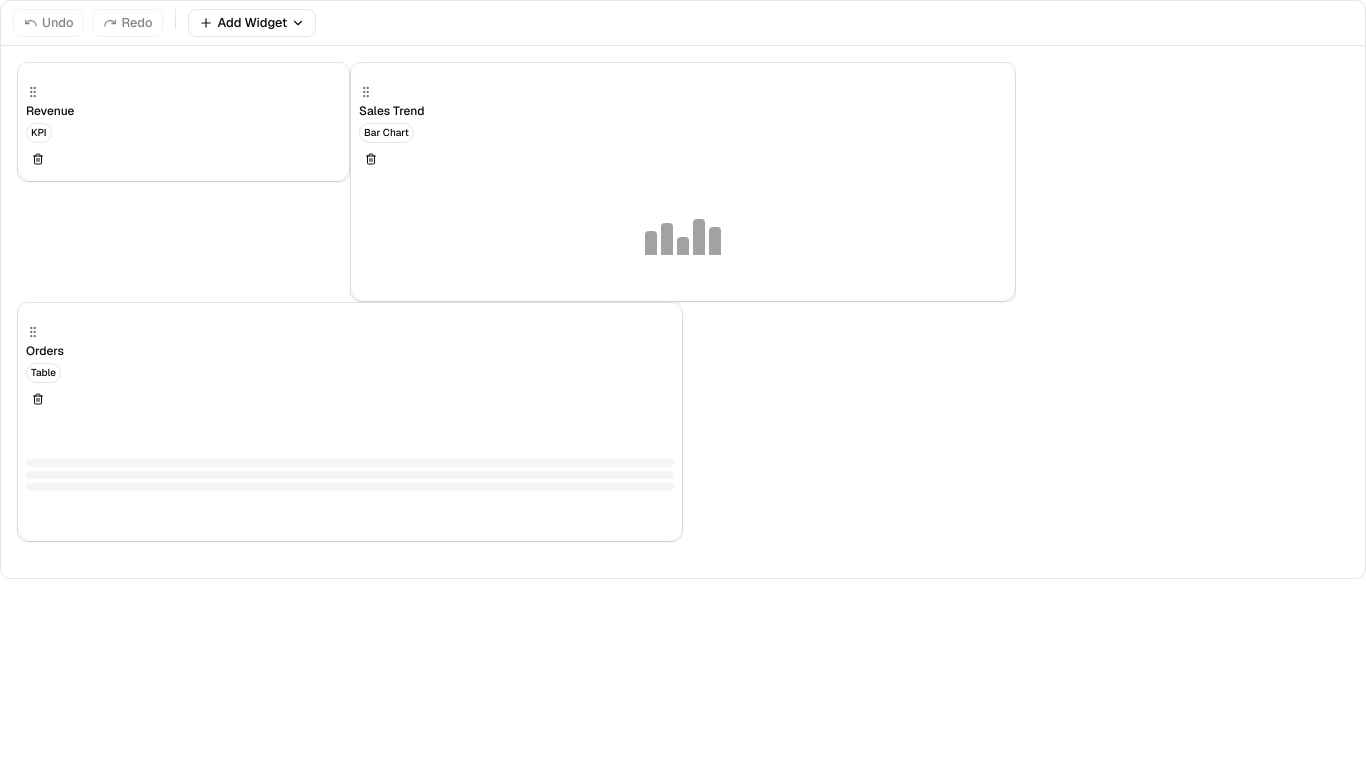
it: DashboardDesigner › select widget opens property panel
Click the element with test id "delete-widget-w1". click: x=184, y=122
box: top-left (17, 62), bottom-right (350, 182)
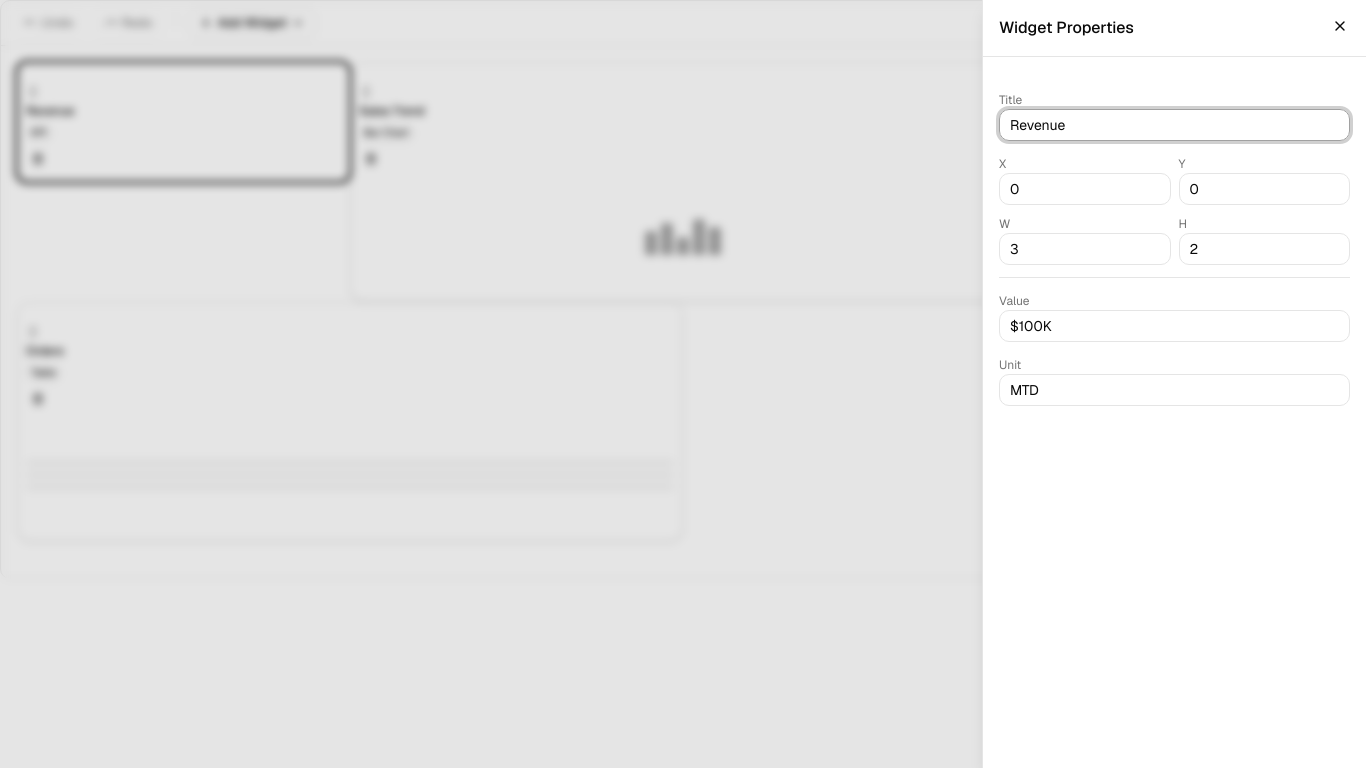
Now the field with test id "property-title" is shown, box top-left (999, 109), bottom-right (1350, 141)
